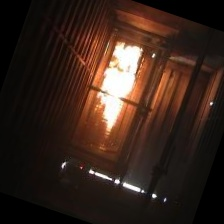fire: (77, 36, 149, 153)
